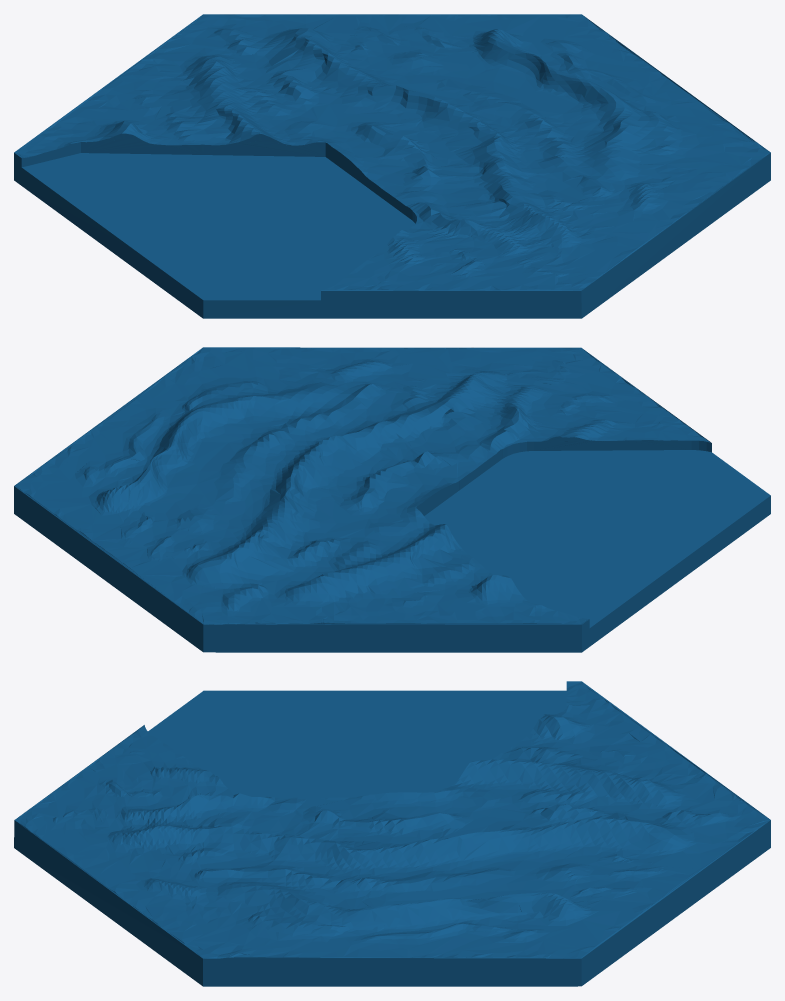
File: harbor_water.glb
3 views of the same model, one above another, from view 1: azimuth 30°, elevation 25°; view 2: azimuth 150°, elevation 25°; view 3: azimuth 270°, elevation 25° (orthographic).
Visible parts, largest first — view 1: harbor_water; view 2: harbor_water; view 3: harbor_water.
Part boxes in pixels (x1=…): harbor_water: x1=14, y1=14, x2=770, y2=318; harbor_water: x1=14, y1=347, x2=770, y2=652; harbor_water: x1=14, y1=681, x2=770, y2=986.
Bounding box in the file's own units: 64.08 × 4.94 × 73.93.
